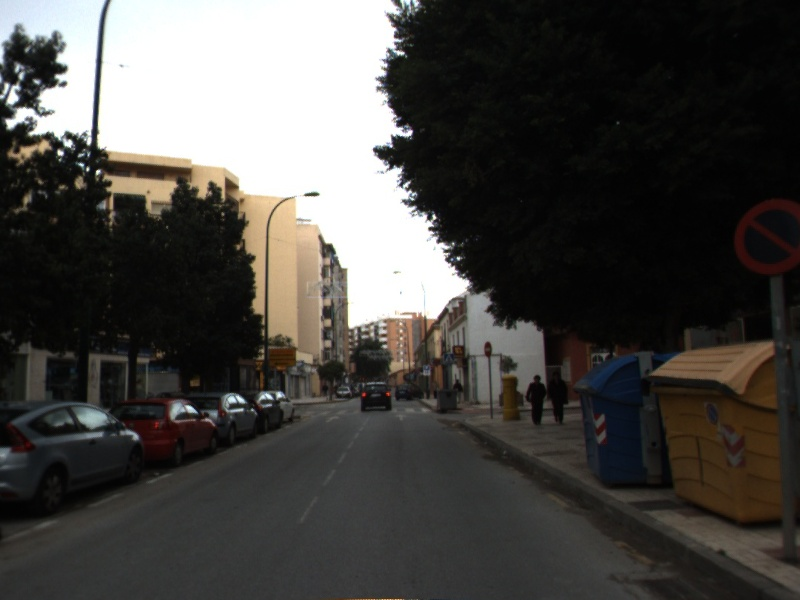STRAIGHT: (323, 414, 342, 424), (393, 412, 410, 422)
